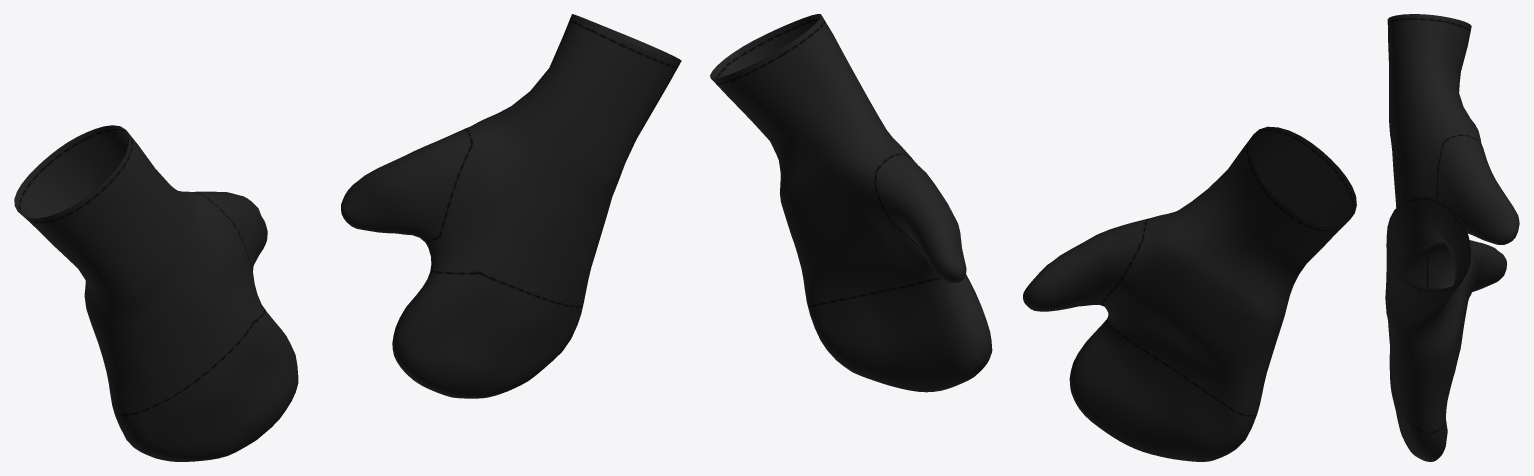
The model's file is Only_FireGloves.fbx.
3 views of the same model, side by side, from view 1: azimuth 30°, elevation 25°; view 2: azimuth 150°, elevation 25°; view 3: azimuth 270°, elevation 25° (orthographic). The views are drawn at different scales.
Parts seen in each view (by area): view 1: Only_FireGloves; view 2: Only_FireGloves; view 3: Only_FireGloves.
Boxes of the visible parts, <box> form: Only_FireGloves: <box>14,14,681,461</box>; Only_FireGloves: <box>710,14,1356,461</box>; Only_FireGloves: <box>1385,14,1519,461</box>.
Bounding box in the file's own units: 0.5015 × 0.2602 × 0.1093.
